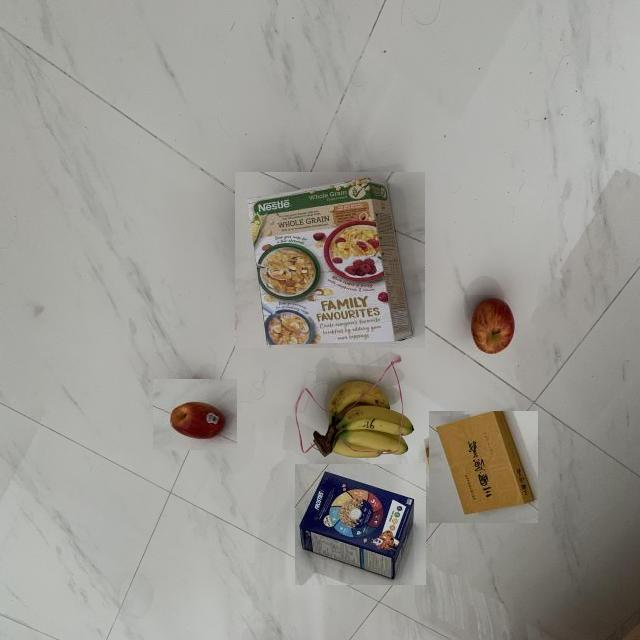Apple: (152, 380, 237, 450), (466, 296, 521, 361)
Banana: (289, 365, 414, 464)
Book: (428, 411, 538, 523)
Cerealbox: (235, 172, 425, 348), (294, 463, 426, 585)
